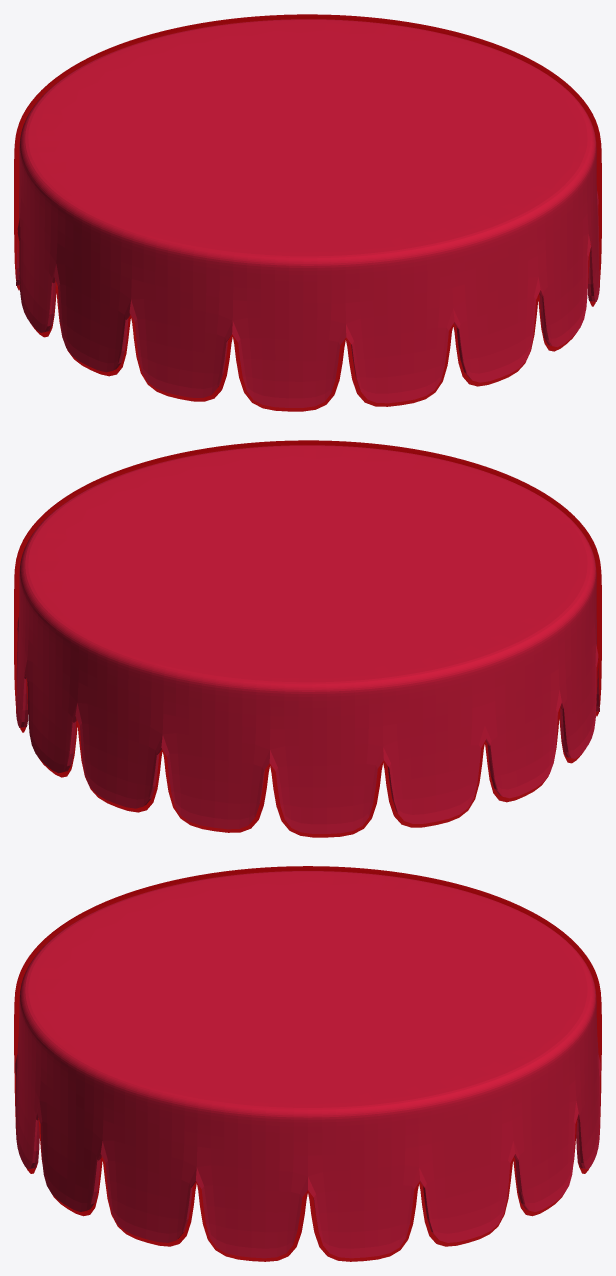
Rendered from circulo vermelho.glb.
3 renders of one model, top to bottom at view 1: azimuth 30°, elevation 25°; view 2: azimuth 150°, elevation 25°; view 3: azimuth 270°, elevation 25°, orthographic.
Parts seen in each view (by area): view 1: Cylinder.021; view 2: Cylinder.021; view 3: Cylinder.021.
Part boxes in pixels (left/top/right/bottom): Cylinder.021: left=14, top=14, right=601, bottom=411; Cylinder.021: left=14, top=440, right=601, bottom=837; Cylinder.021: left=14, top=866, right=601, bottom=1261.
Bounding box in the file's own units: 22.21 × 6.54 × 22.21.
